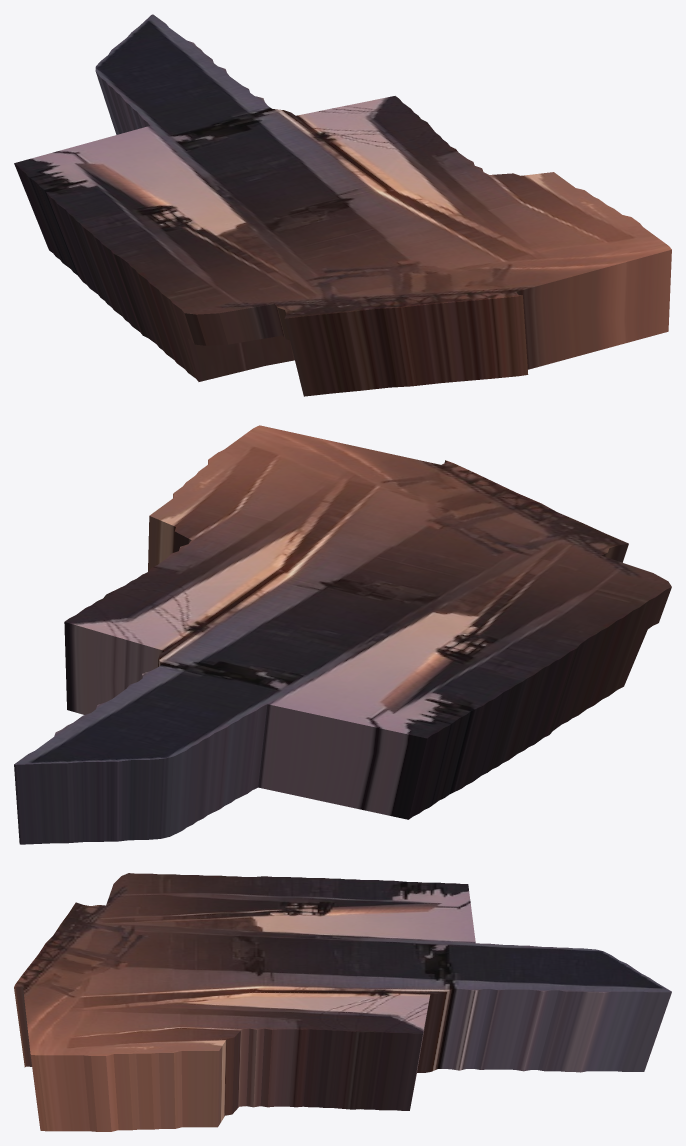
The model's file is tower.glb.
3 renders of one model, top to bottom at view 1: azimuth 30°, elevation 25°; view 2: azimuth 150°, elevation 25°; view 3: azimuth 270°, elevation 25°, orthographic. The views are drawn at different scales.
Visible parts, largest first — view 1: tower-hero; view 2: tower-hero; view 3: tower-hero.
Part boxes in pixels (box(x1,y1,x2,y2)): tower-hero: box(14, 14, 671, 396); tower-hero: box(14, 425, 671, 844); tower-hero: box(14, 873, 671, 1131).
Bounding box in the file's own units: 168 × 32 × 254.
1 material, 1 textured.
